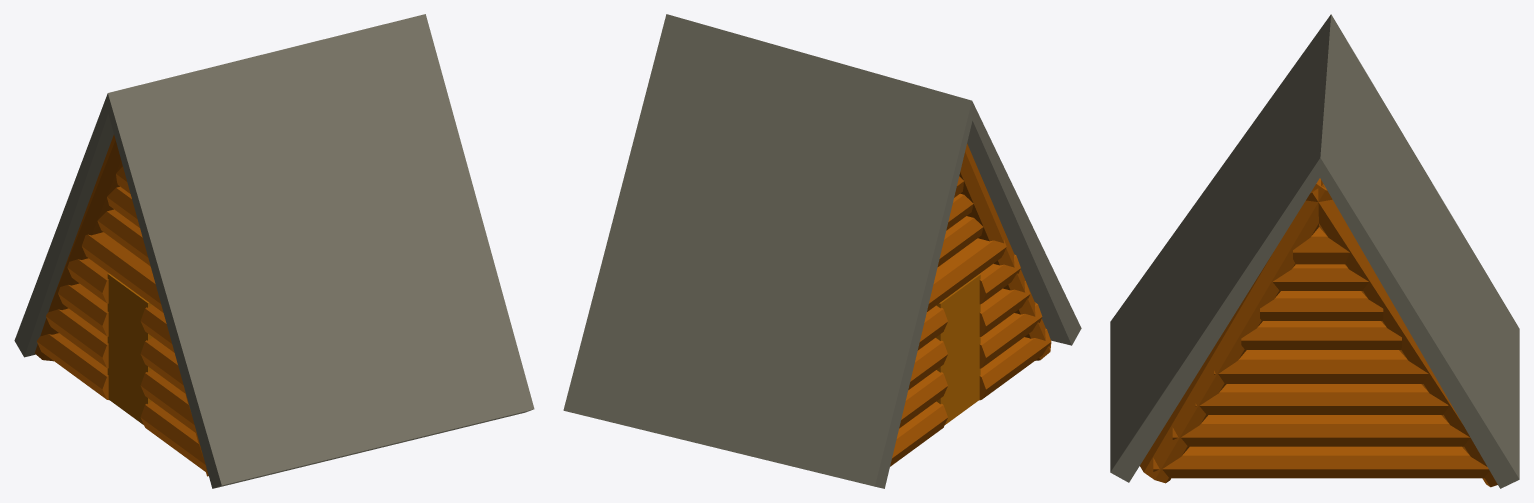
Rendered from WoodenHut.fbx.
3 views of the same model, side by side, from view 1: azimuth 30°, elevation 25°; view 2: azimuth 150°, elevation 25°; view 3: azimuth 270°, elevation 25° (orthographic).
Parts seen in each view (by area): view 1: Cylinder.001, Cube; view 2: Cylinder.001, Cube; view 3: Cylinder.001.
Part boxes in pixels (<box>): Cylinder.001: <box>14,14,534,488</box>; Cube: <box>107,273,152,424</box>; Cylinder.001: <box>563,14,1081,488</box>; Cube: <box>936,274,980,424</box>; Cylinder.001: <box>1110,14,1519,488</box>.
Size of the model in its own units: 2029 by 2088 by 2315.
